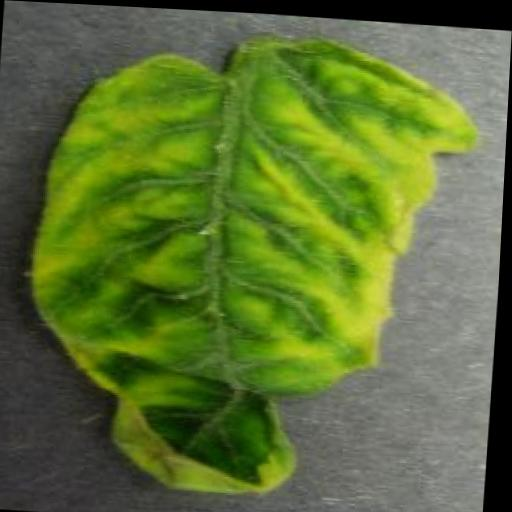Yellow Leaf Curl Virus: (22, 20, 487, 502)
